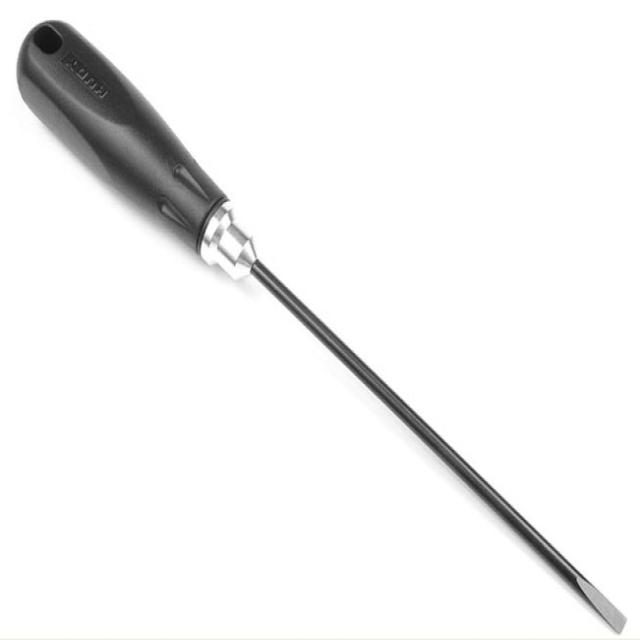Screwdriver: (18, 21, 625, 631)
